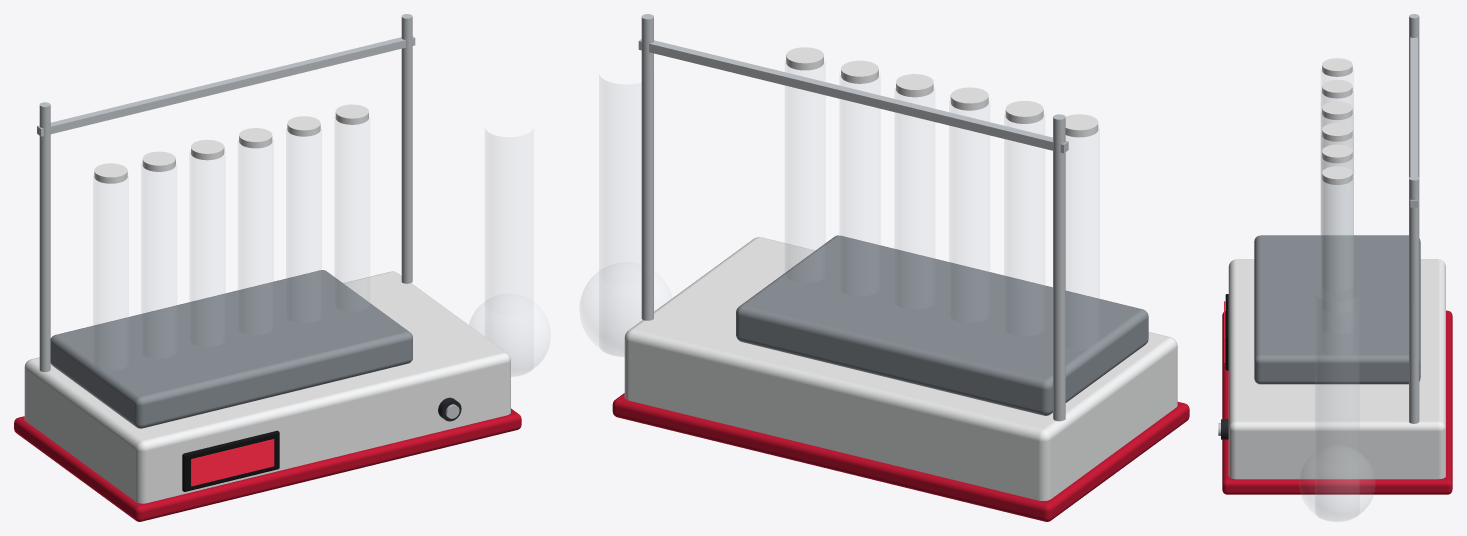
File: nap-6.glb
3 views of the same model, side by side, from view 1: azimuth 30°, elevation 25°; view 2: azimuth 150°, elevation 25°; view 3: azimuth 270°, elevation 25° (orthographic). The views are drawn at different scales.
Size of the model in its own units: 0.78 by 0.54 by 0.366.
